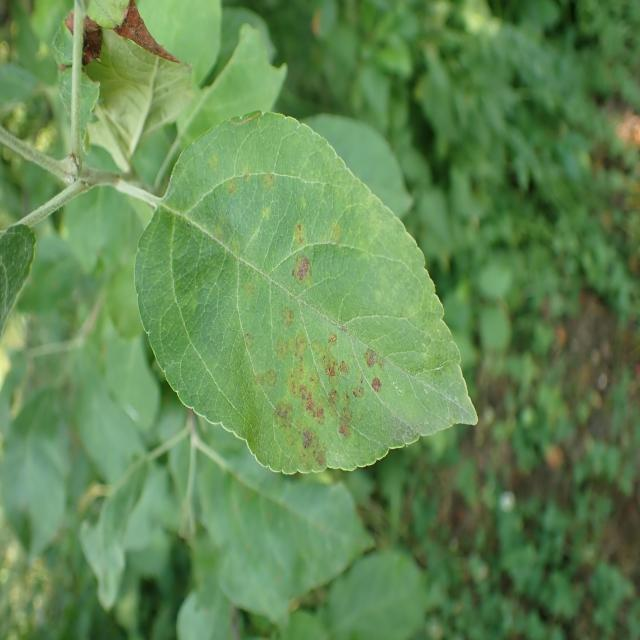scab: (183, 134, 399, 484)
